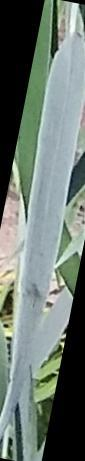Wheat: (13, 32, 85, 302)
